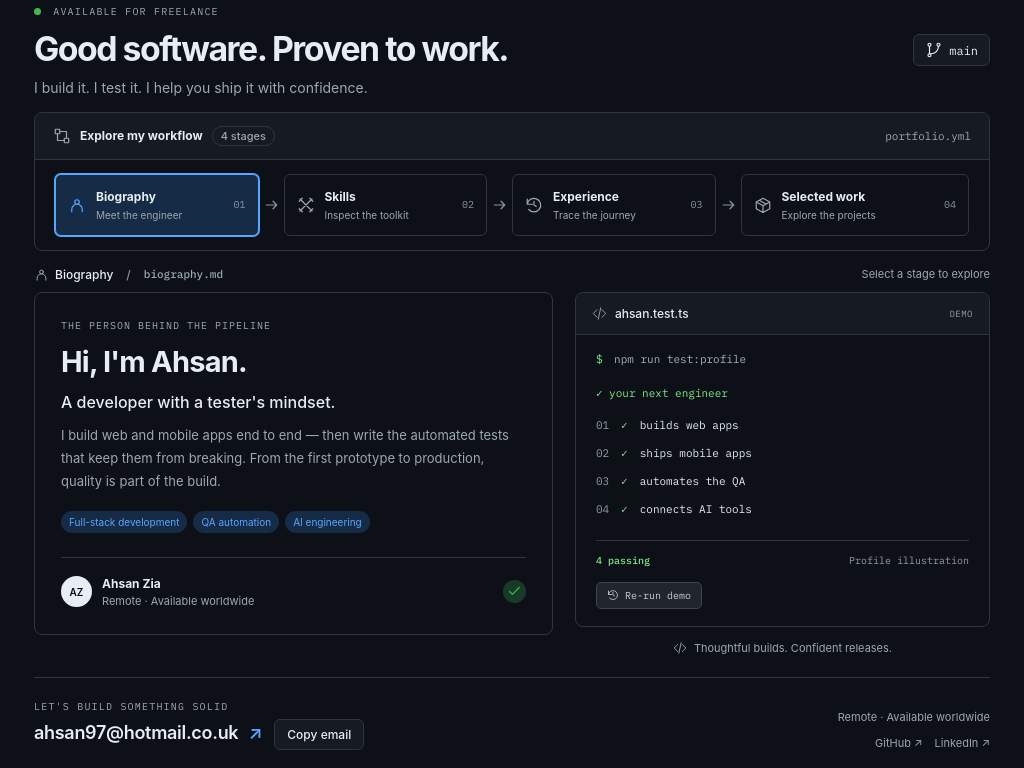
Test: portfolio workflow › offers a useful fallback if clipboard access fails
The width and height of the screenshot is (1024, 768).
(page scrolled)
Step 1. Click the button "Copy email" → (319,734), box [274,718,364,750]
(page scrolled)
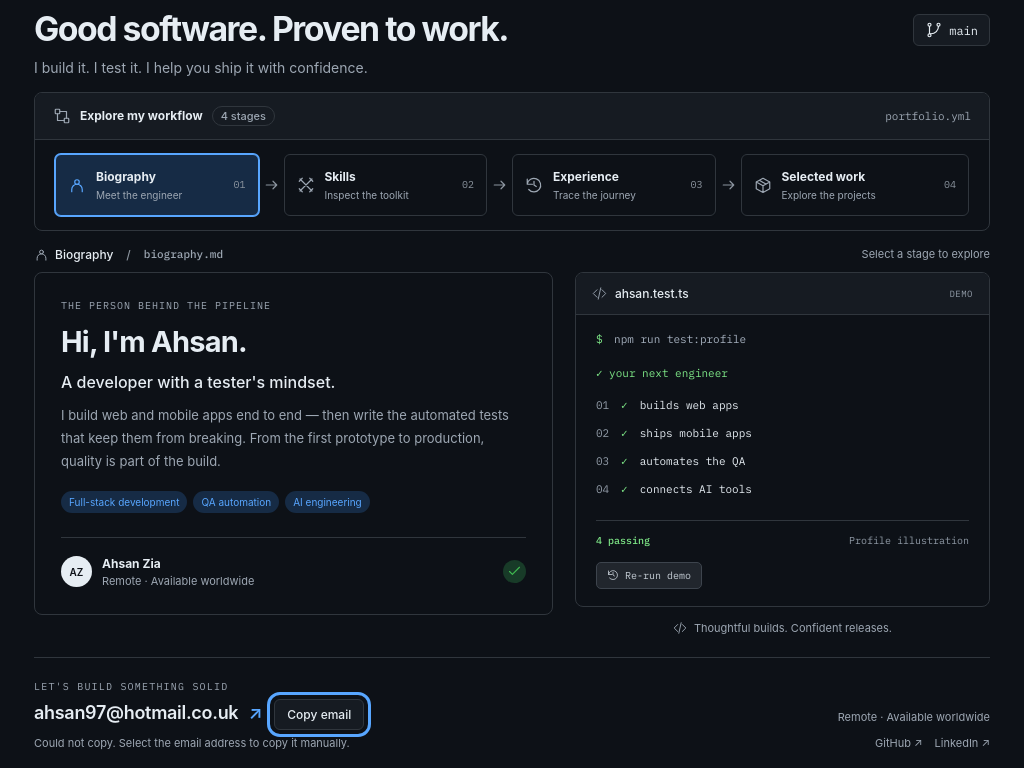
expect the text "Could not copy. Select the email address to copy it manually." is shown: met, box [34,736,364,750]
